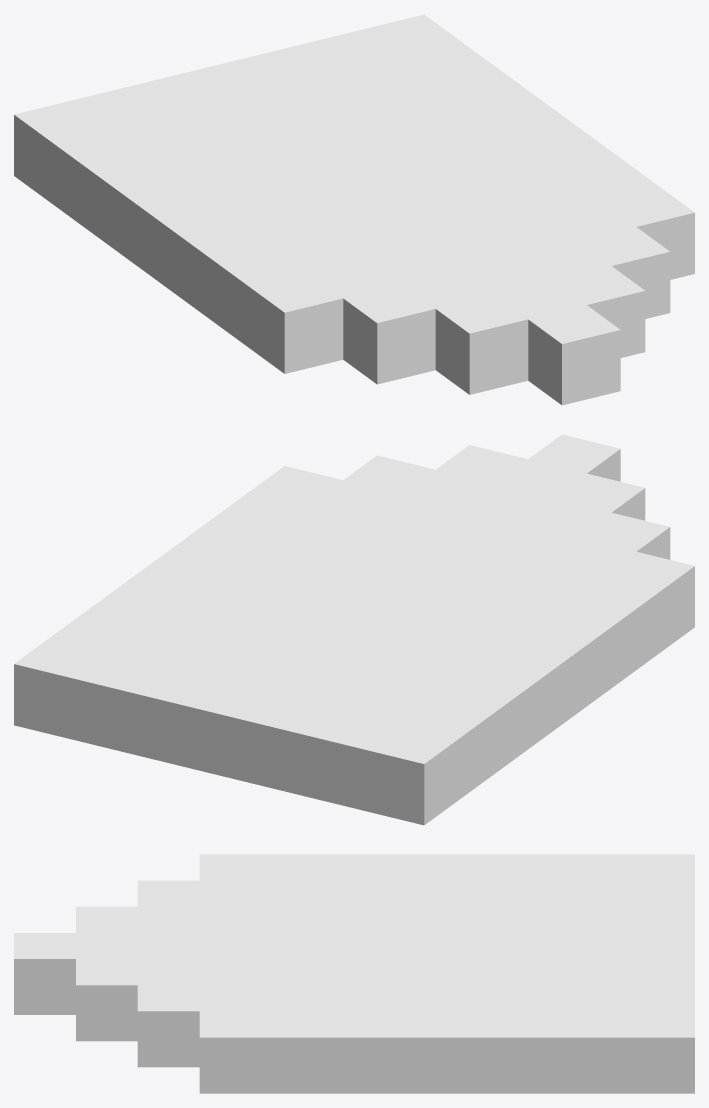
Rendered from WhiteAloSepareted.fbx.
3 renders of one model, top to bottom at view 1: azimuth 30°, elevation 25°; view 2: azimuth 150°, elevation 25°; view 3: azimuth 270°, elevation 25°, orthographic. The views are drawn at different scales.
Visible parts, largest first — view 1: Base, Head; view 2: Base, Head; view 3: Base, Head.
Boxes of the visible parts, <box> form: Base: <box>14,14,660,348</box>; Head: <box>251,188,694,405</box>; Base: <box>14,490,660,825</box>; Head: <box>251,434,694,651</box>; Base: <box>261,854,694,1093</box>; Head: <box>14,854,261,1093</box>.
Size of the model in its own units: 70 by 10 by 110.
1 material, 1 textured.
